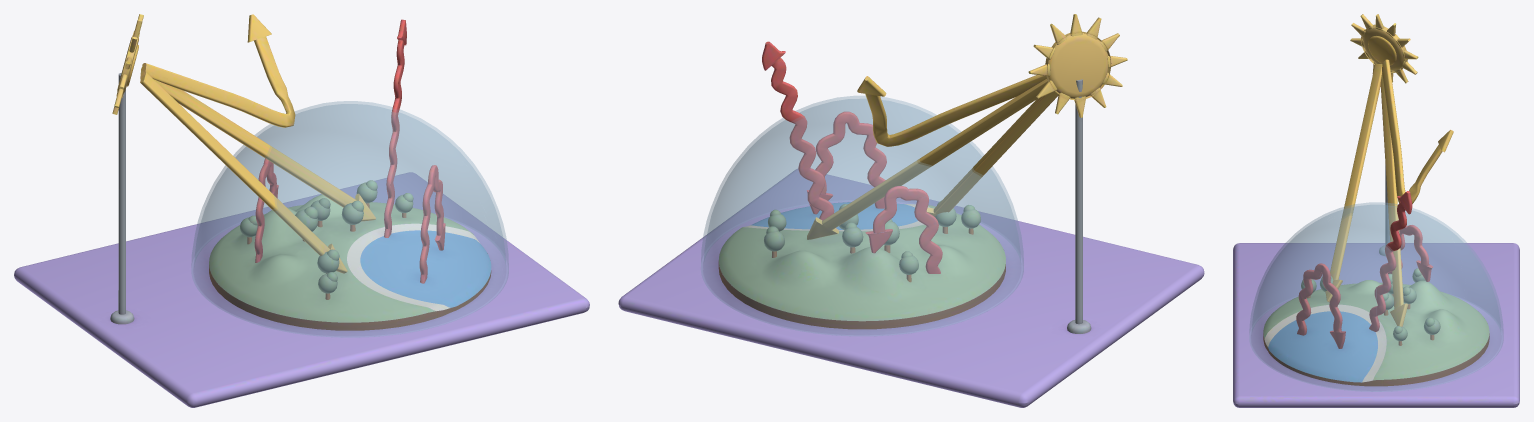
Rendered from greenhouse-effect.glb.
The picture shows the model from 3 angles, left to right: view 1: azimuth 30°, elevation 25°; view 2: azimuth 150°, elevation 25°; view 3: azimuth 270°, elevation 25°; orthographic projection. The views are drawn at different scales.
Parts seen in each view (by area): view 1: greenhouse-effect_body, greenhouse-effect_atmosphere_glass; view 2: greenhouse-effect_body, greenhouse-effect_atmosphere_glass; view 3: greenhouse-effect_body, greenhouse-effect_atmosphere_glass.
Part boxes in pixels (x1=…): greenhouse-effect_body: x1=14, y1=14, x2=589, y2=407; greenhouse-effect_atmosphere_glass: x1=191, y1=101, x2=508, y2=337; greenhouse-effect_body: x1=618, y1=14, x2=1204, y2=407; greenhouse-effect_atmosphere_glass: x1=701, y1=96, x2=1023, y2=336; greenhouse-effect_body: x1=1233, y1=14, x2=1519, y2=407; greenhouse-effect_atmosphere_glass: x1=1249, y1=202, x2=1503, y2=391.
Size of the model in its own units: 0.468 by 0.3511 by 0.36.
2 materials, 1 textured.
